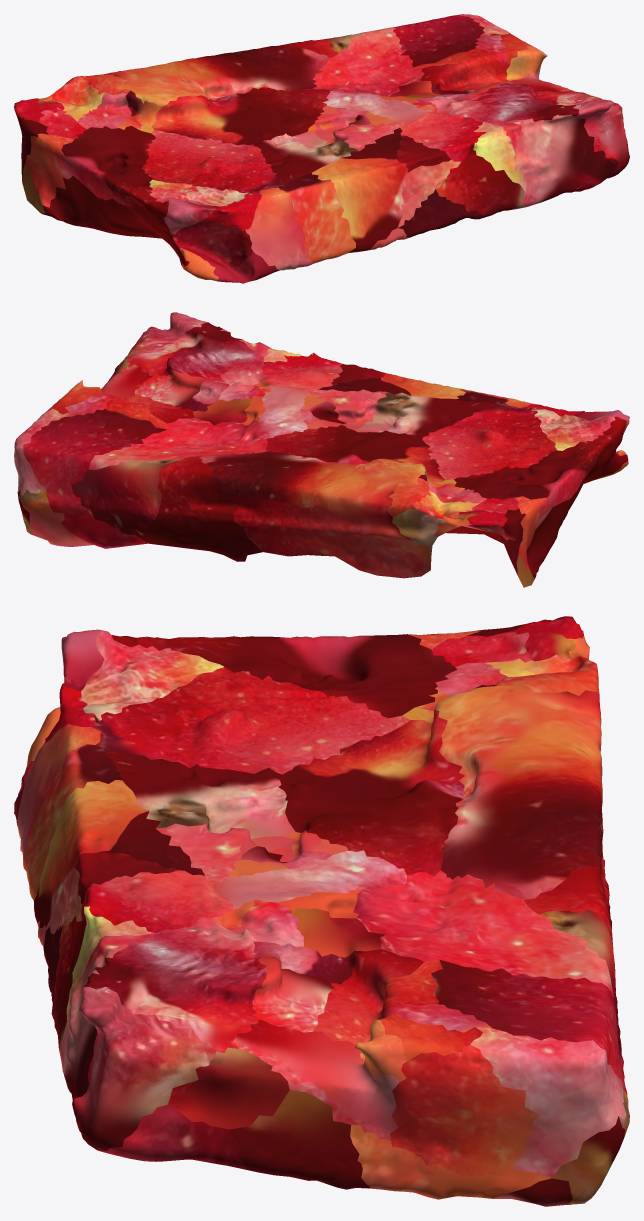
File: 3DModel.obj
3 views of the same model, one above another, from view 1: azimuth 30°, elevation 25°; view 2: azimuth 150°, elevation 25°; view 3: azimuth 270°, elevation 25° (orthographic). The views are drawn at different scales.
Visible parts, largest first — view 1: 3DModel; view 2: 3DModel; view 3: 3DModel.
Boxes of the visible parts, x1=… form: 3DModel: x1=14, y1=14, x2=629, y2=283; 3DModel: x1=14, y1=312, x2=629, y2=587; 3DModel: x1=14, y1=616, x2=629, y2=1206.
Bounding box in the file's own units: 0.2414 × 0.0644 × 0.1538.
